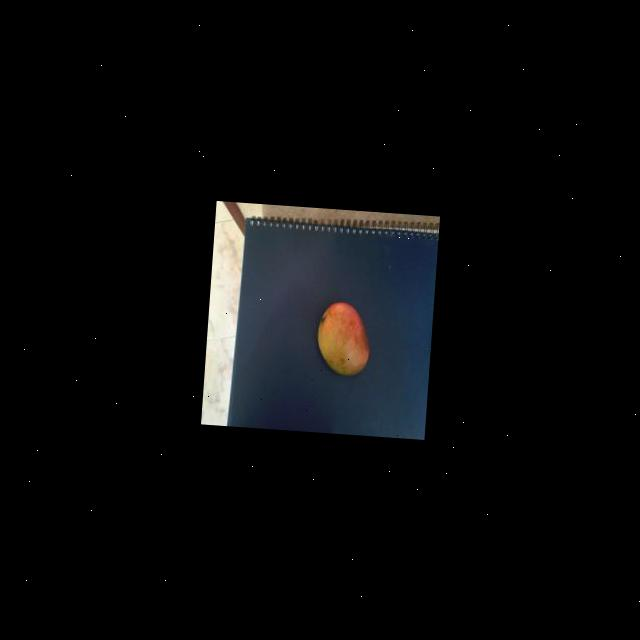Mango: (314, 298, 374, 376)
